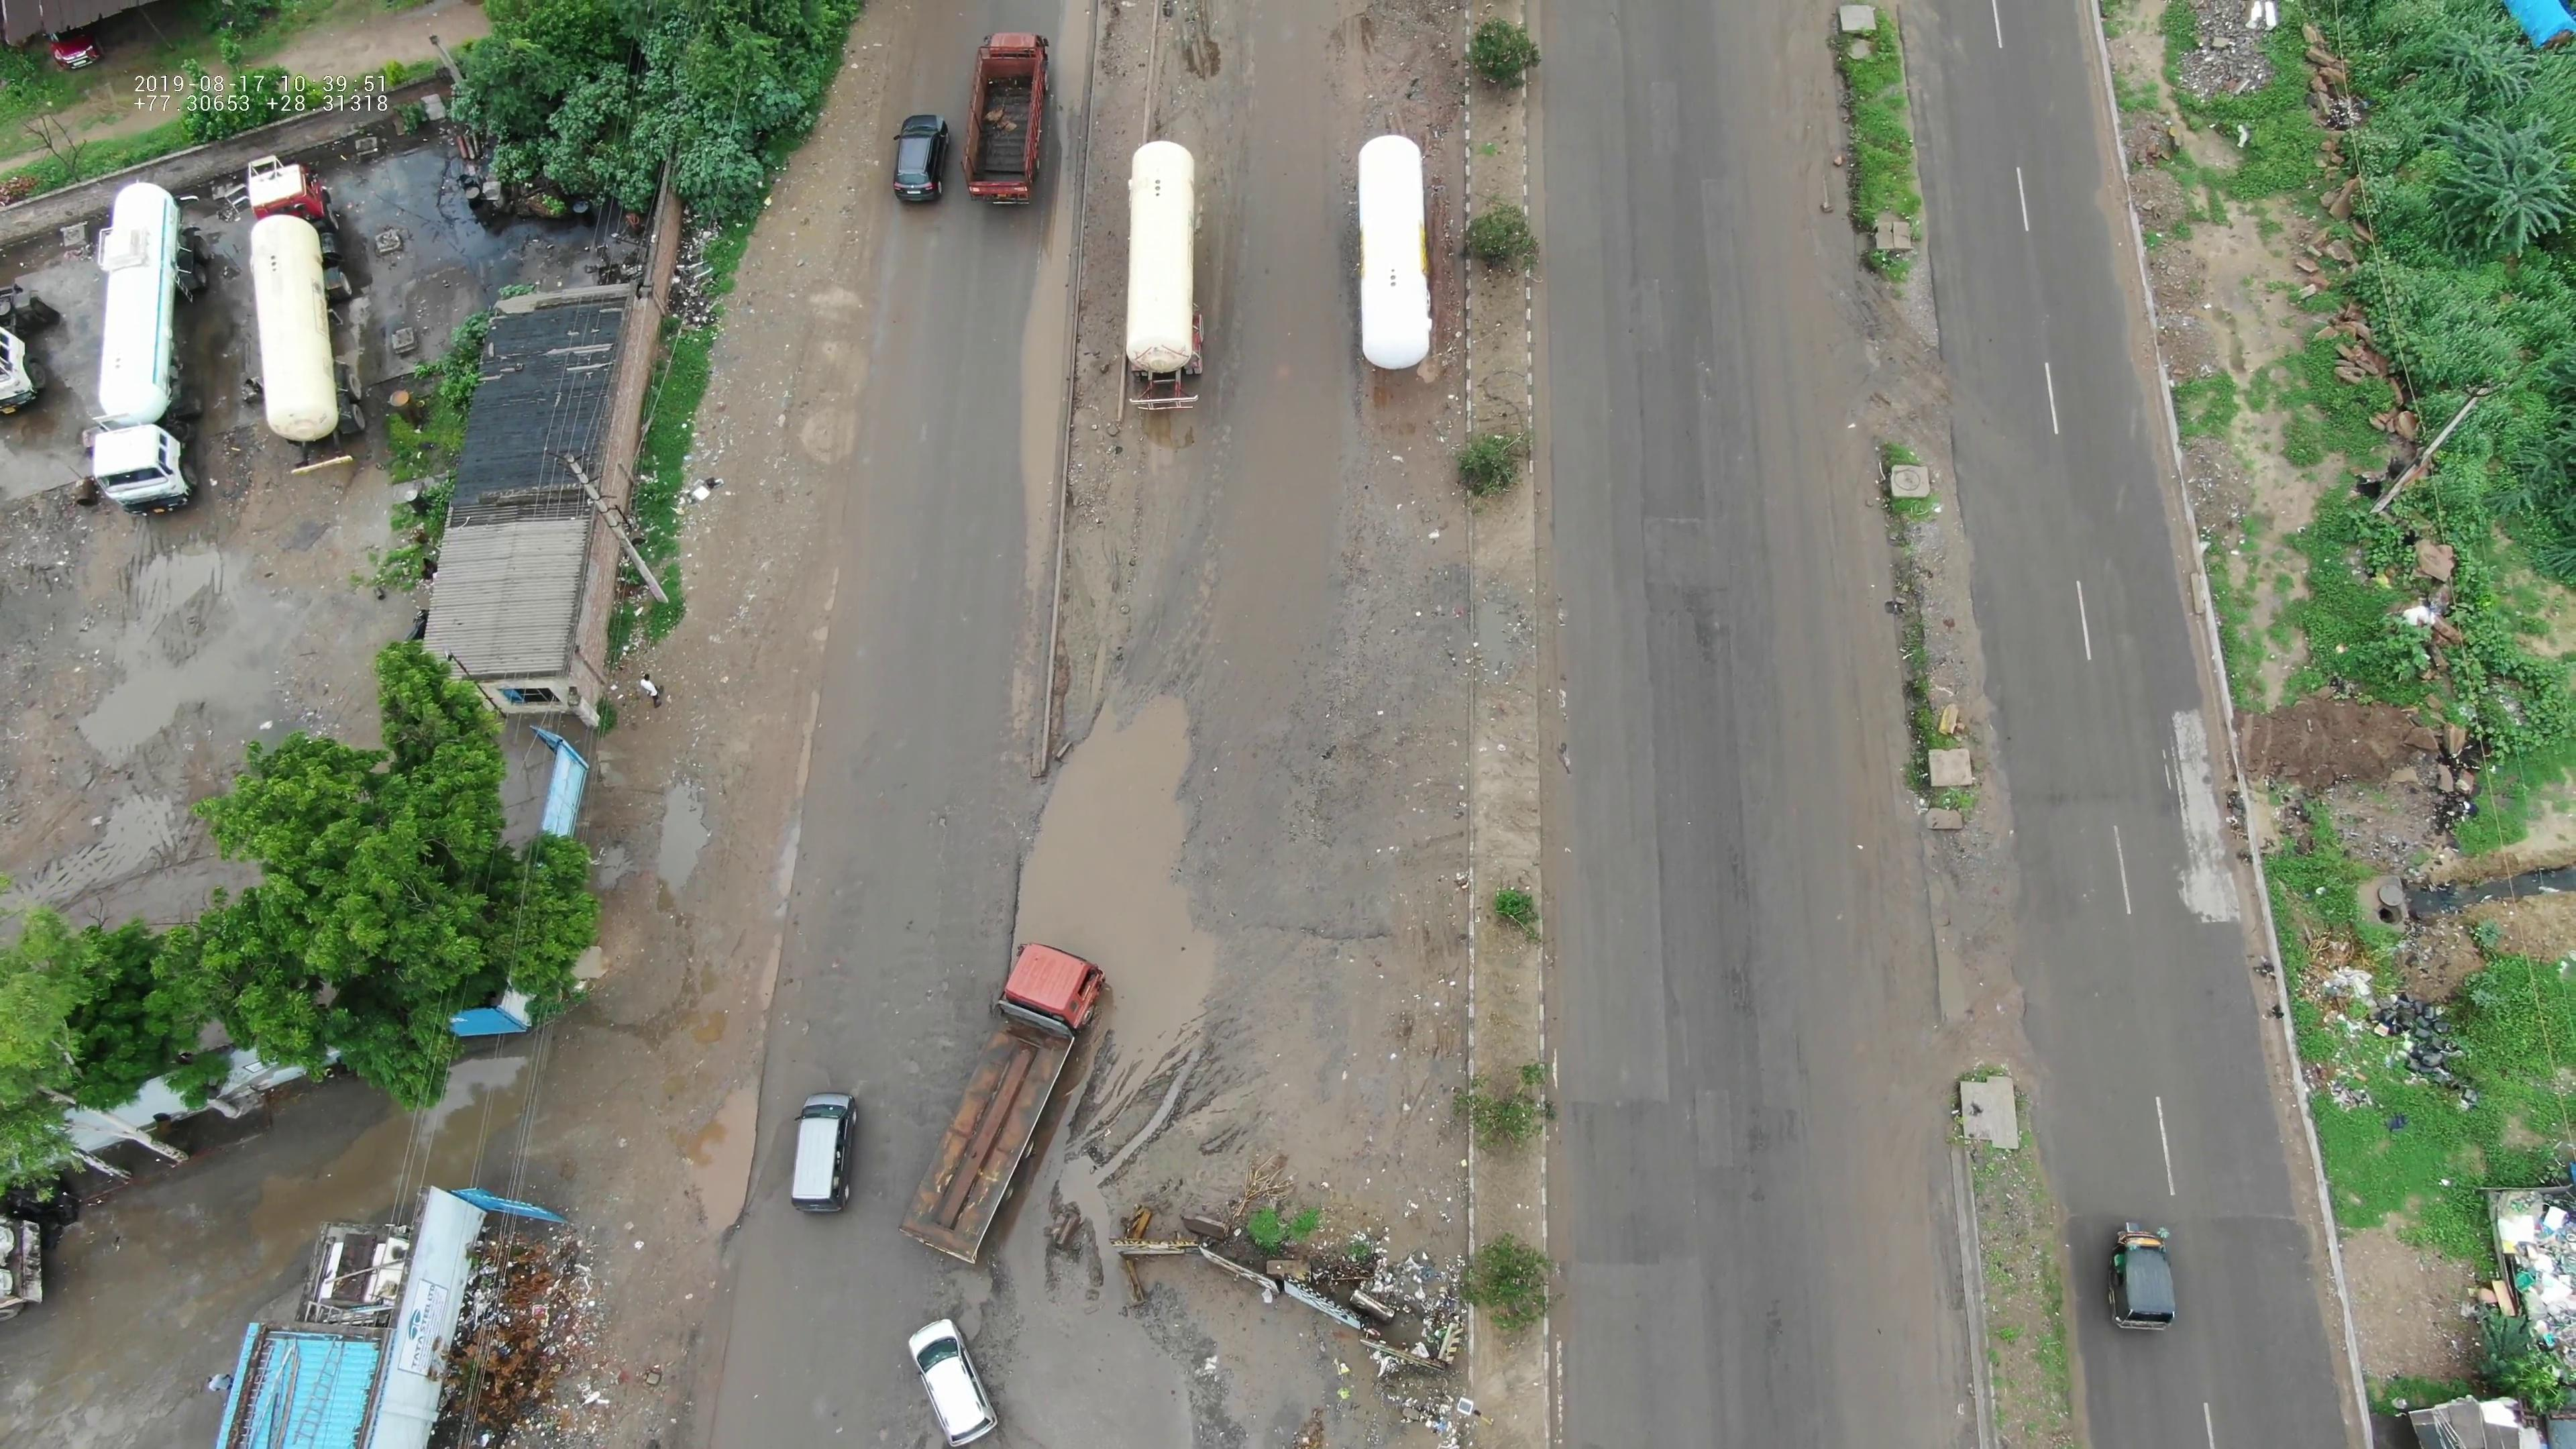Waterlogging: (964, 653, 1265, 1003), (989, 193, 1088, 605)
